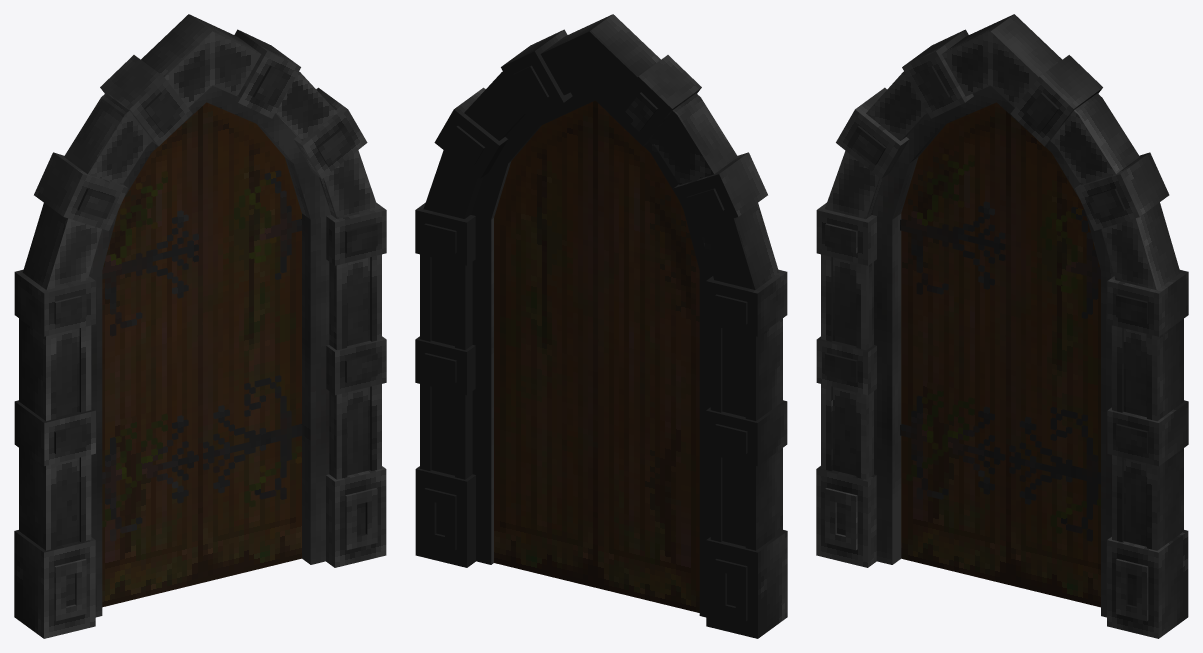
File: MDL_Wooden_Door_Damaged.glb
3 views of the same model, side by side, from view 1: azimuth 30°, elevation 25°; view 2: azimuth 150°, elevation 25°; view 3: azimuth 330°, elevation 25° (orthographic).
Visible parts, largest first — view 1: DoorMerged_selection; view 2: DoorMerged_selection; view 3: DoorMerged_selection.
Part boxes in pixels (box(x1,y1,x2,y2)): DoorMerged_selection: box(14, 14, 386, 638); DoorMerged_selection: box(415, 14, 787, 638); DoorMerged_selection: box(816, 14, 1188, 638).
Size of the model in its own units: 2.08 by 3.26 by 0.3438.
1 material, 1 textured.
